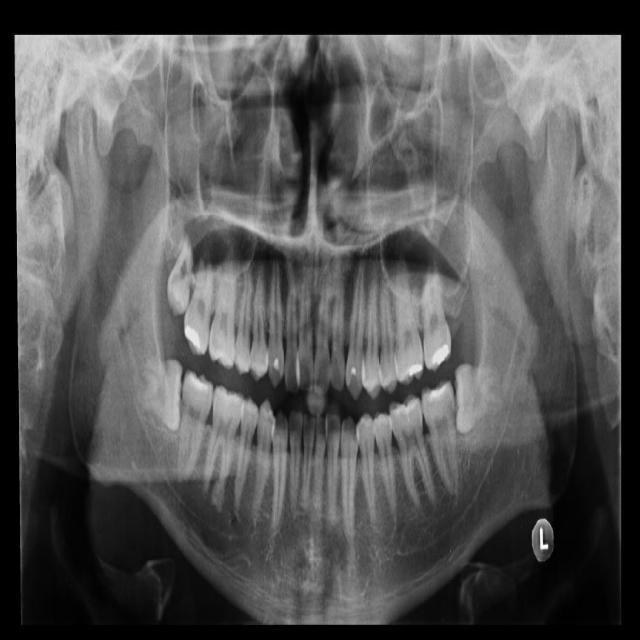3M ESPE Implant: (165, 232, 194, 316)
52: (414, 376, 464, 428), (384, 392, 430, 438), (391, 334, 427, 386), (182, 302, 212, 357), (423, 322, 452, 373), (342, 353, 368, 400), (266, 345, 284, 387)
73: (574, 573, 580, 596)
BioHorizons Implant: (420, 258, 452, 373)
Biomet 3i Implant: (453, 362, 504, 435)
Blue Sky Bio Implant: (418, 376, 469, 503)
Caries: (180, 238, 217, 357)
Implant: (175, 370, 216, 482)
Keystone Dental Implant: (136, 356, 183, 434)
